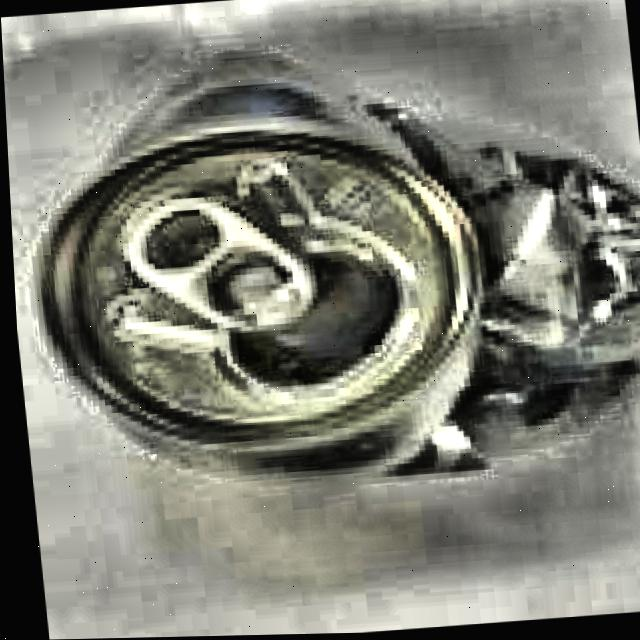metal: (25, 46, 640, 496)
